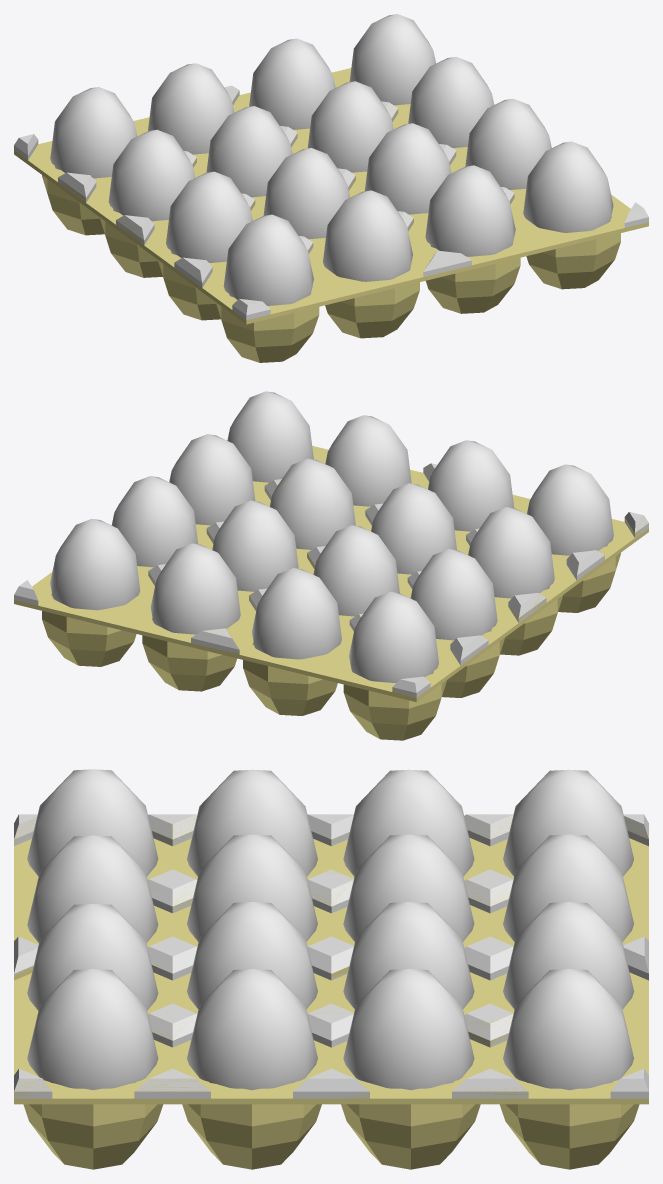
The model's file is SM_CartonofEggs.fbx.
3 renders of one model, top to bottom at view 1: azimuth 30°, elevation 25°; view 2: azimuth 150°, elevation 25°; view 3: azimuth 270°, elevation 25°, orthographic. The views are drawn at different scales.
Parts seen in each view (by area): view 1: Cube.001; view 2: Cube.001; view 3: Cube.001.
Boxes of the visible parts, bbox=[...] form: Cube.001: bbox=[14, 14, 648, 362]; Cube.001: bbox=[14, 391, 648, 740]; Cube.001: bbox=[14, 769, 648, 1169].
Bounding box in the file's own units: 53.61 × 17.21 × 53.6.
